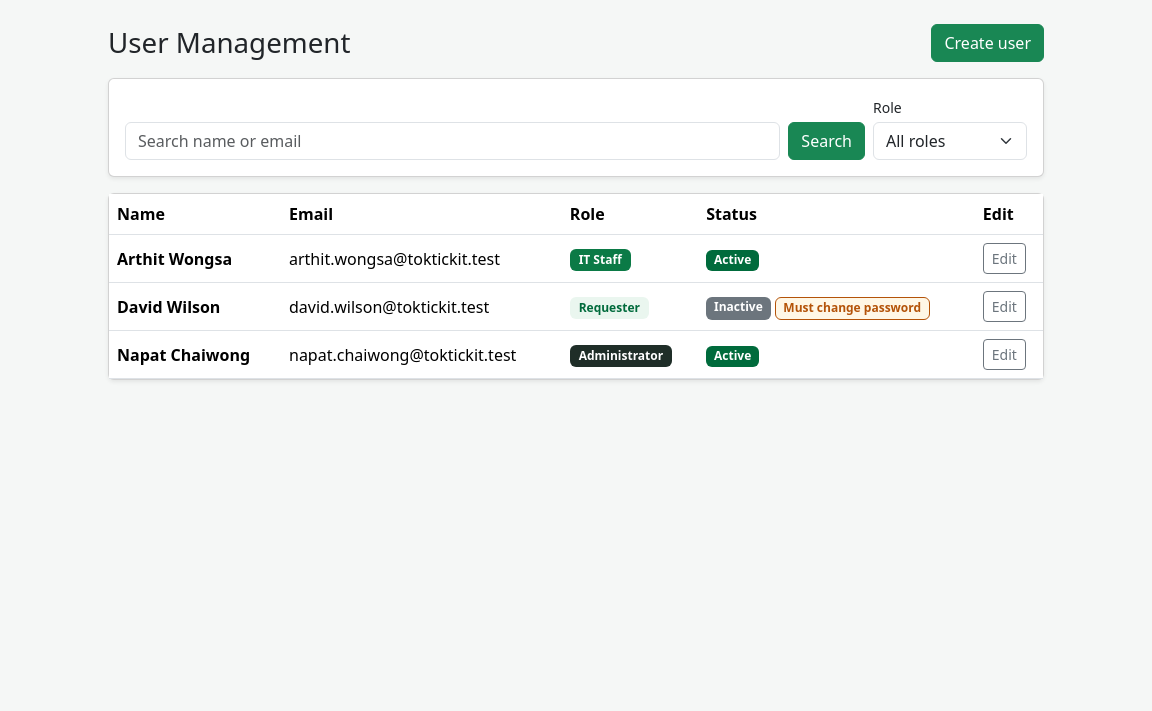
it: UI-27 create user › posts a valid user and shows it as must-change-password
This screenshot has width=1152, height=711.
Click the button "Create user".
click(988, 43)  # box [932,24,1044,62]
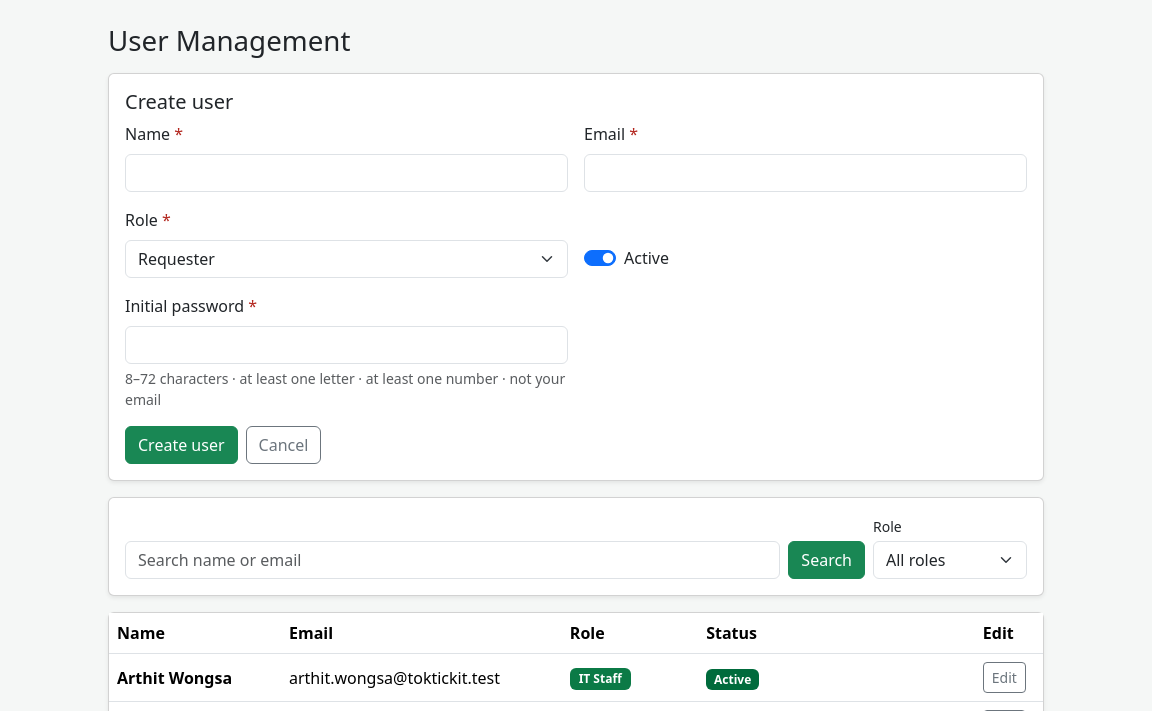
Type "Mali Srisuk" into the field labelled "Name *".
click(346, 173); type("Mali Srisuk")  # box [125,154,568,192]
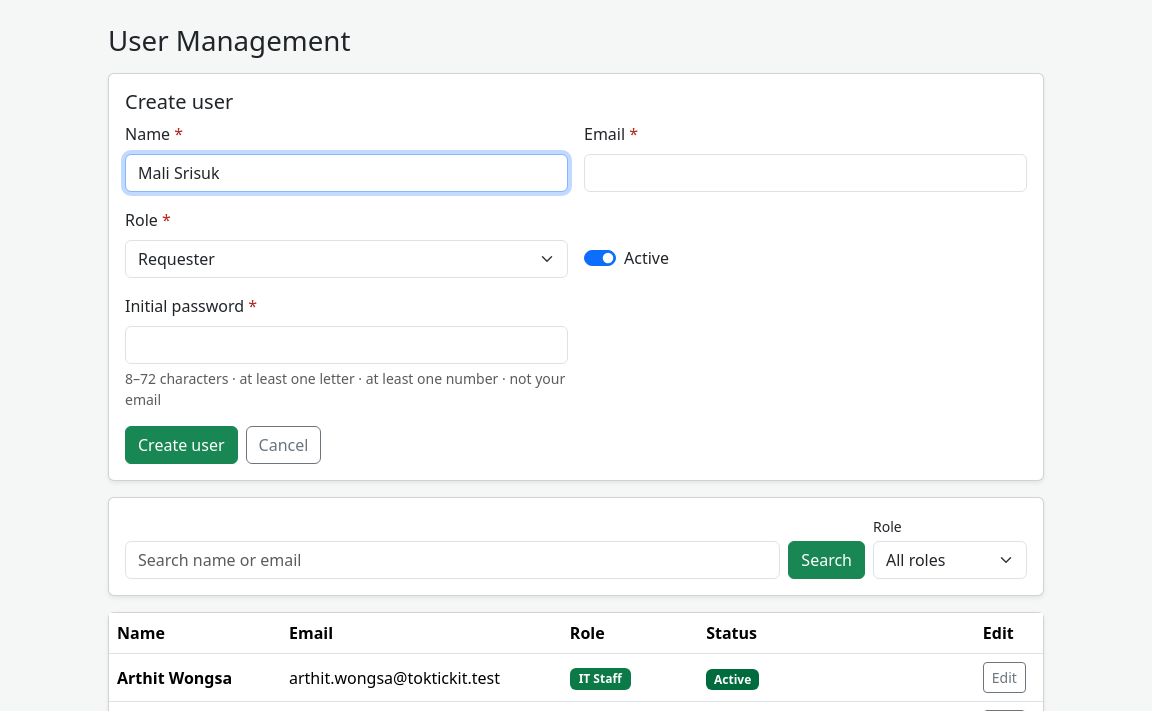
Type "Mali@toktickit.test" into the field labelled "Email *".
click(806, 173); type("Mali@toktickit.test")  # box [584,154,1027,192]
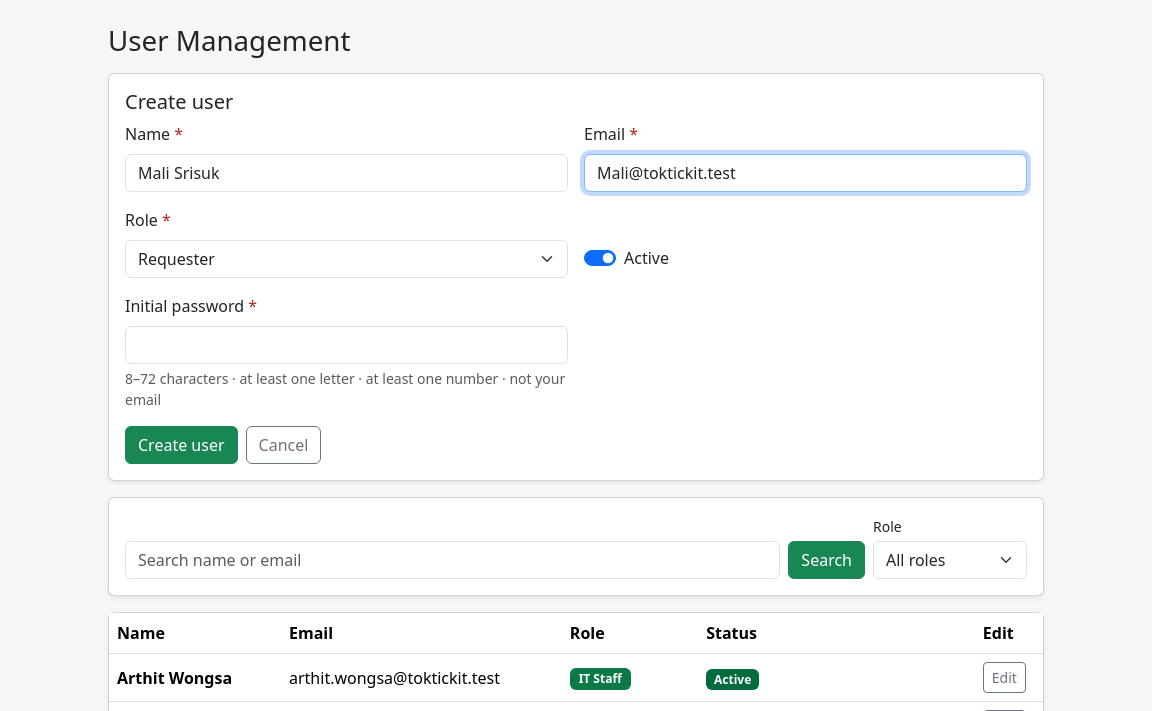
Select "IT Staff" in the dropdown labelled "Role *" at (346, 259), box [125,240,568,278]
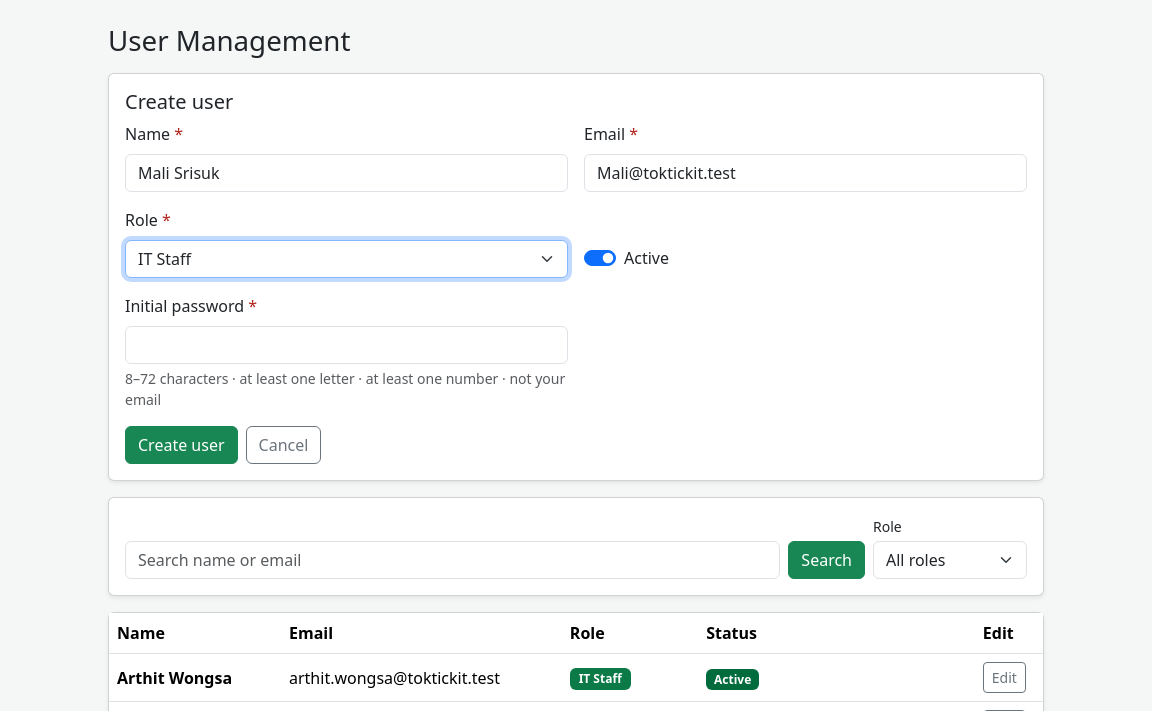
Type "Firstday2026" into the password field labelled "Initial password *".
click(346, 345); type("Firstday2026")  # box [125,326,568,364]
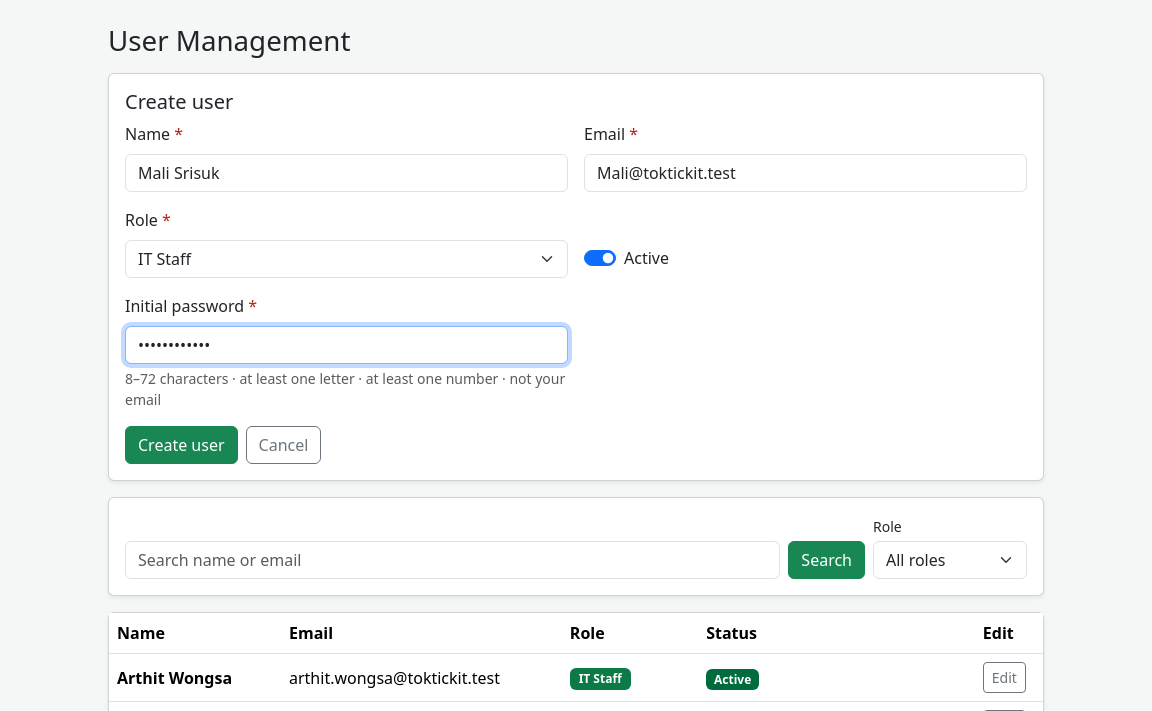
Click the button "Create user".
click(181, 445)  # box [125,426,238,464]
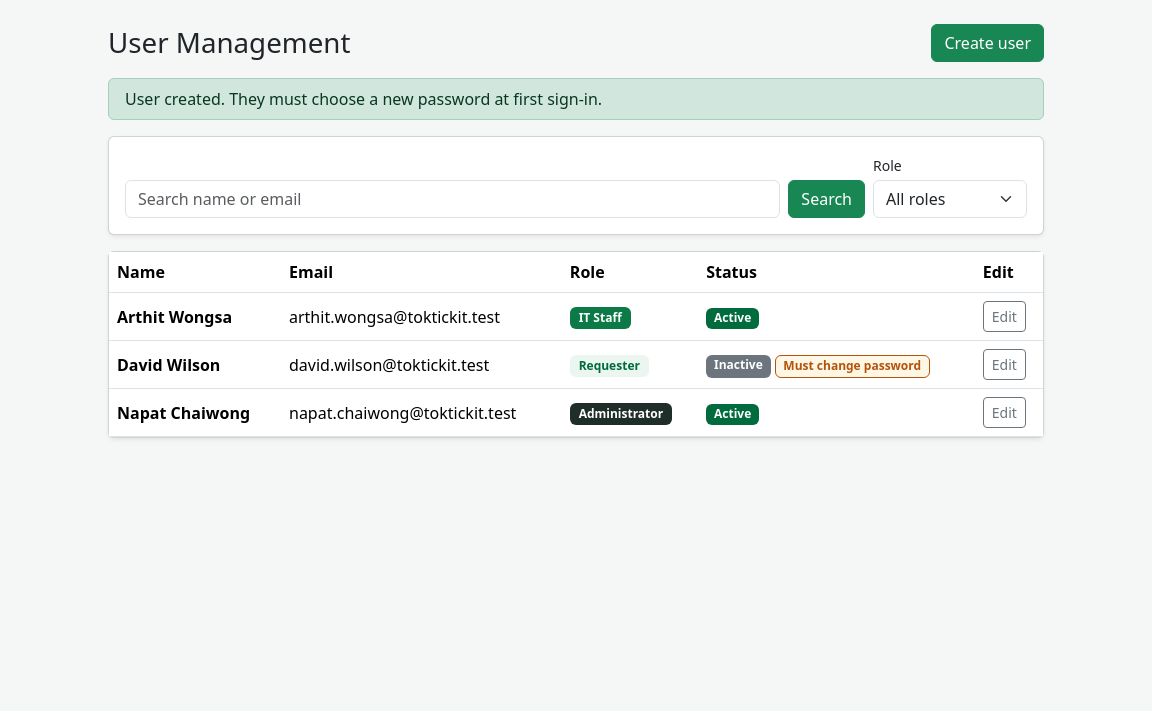
Result: the text "User created. They must choose a new password at first sign-in." is shown at [108,78,1044,120]
